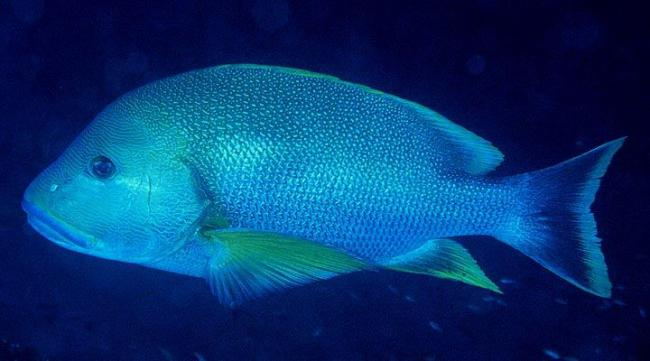fish: (21, 63, 628, 308)
